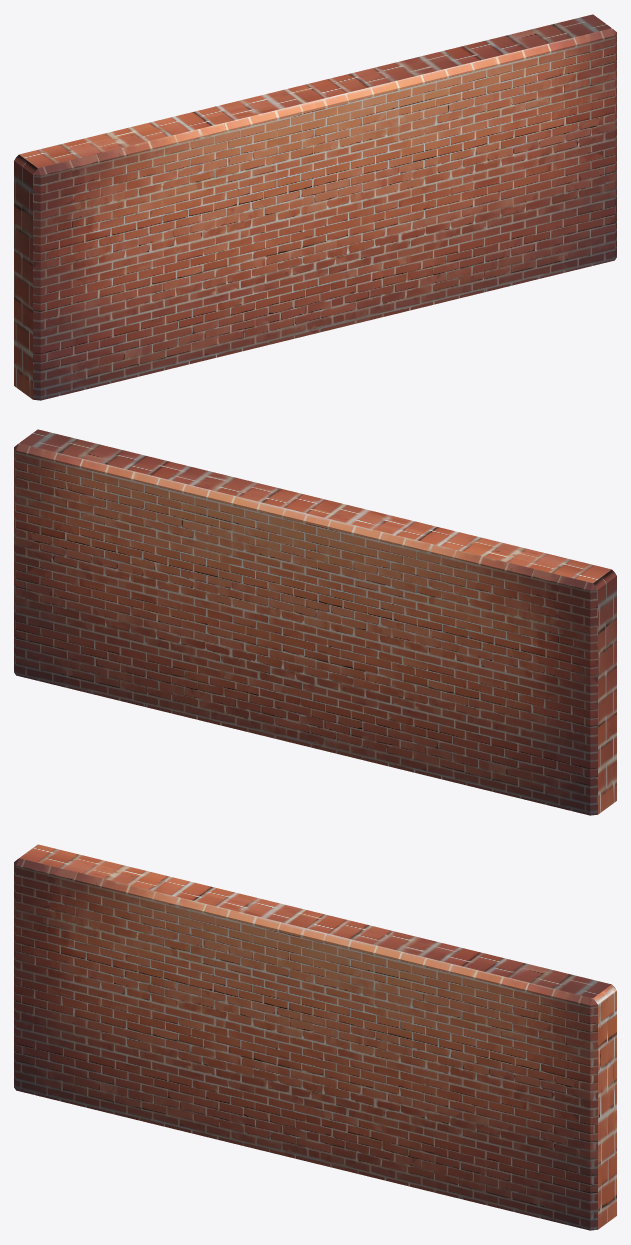
The model's file is Brickwall.fbx.
3 renders of one model, top to bottom at view 1: azimuth 30°, elevation 25°; view 2: azimuth 150°, elevation 25°; view 3: azimuth 330°, elevation 25°, orthographic.
Parts seen in each view (by area): view 1: report2716666597772334286aa2708dd-59f6-410d-8c59-73206ee4853; view 2: report2716666597772334286aa2708dd-59f6-410d-8c59-73206ee4853; view 3: report2716666597772334286aa2708dd-59f6-410d-8c59-73206ee4853.
Boxes of the visible parts, x1,y1,x2,y2 form: report2716666597772334286aa2708dd-59f6-410d-8c59-73206ee4853: (14,14,616,400); report2716666597772334286aa2708dd-59f6-410d-8c59-73206ee4853: (14,429,616,815); report2716666597772334286aa2708dd-59f6-410d-8c59-73206ee4853: (14,844,616,1230).
Bounding box in the file's own units: 200 × 75.64 × 14.62.
Materials: 1 (1 with a texture image).
